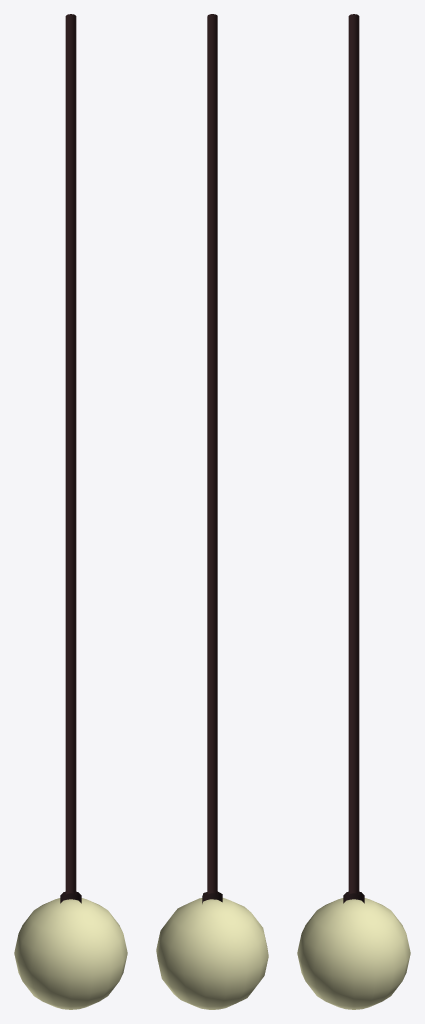
Rendered from SM_GameArea_Light_01 - Copy.fbx.
3 views of the same model, side by side, from view 1: azimuth 90°, elevation 25°; view 2: azimuth 150°, elevation 25°; view 3: azimuth 270°, elevation 25° (orthographic).
Parts seen in each view (by area): view 1: SM_GameArea_Light_01; view 2: SM_GameArea_Light_01; view 3: SM_GameArea_Light_01.
Part boxes in pixels (left/top/right/bottom): SM_GameArea_Light_01: left=14, top=14, right=127, bottom=1009; SM_GameArea_Light_01: left=156, top=14, right=268, bottom=1009; SM_GameArea_Light_01: left=297, top=14, right=410, bottom=1009.
Size of the model in its own units: 2 by 19.2 by 2.
Materials: 2 (1 with a texture image).
